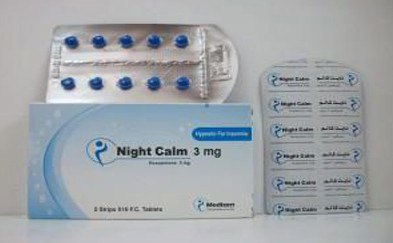Medicine: (25, 99, 256, 223), (259, 59, 369, 219)
